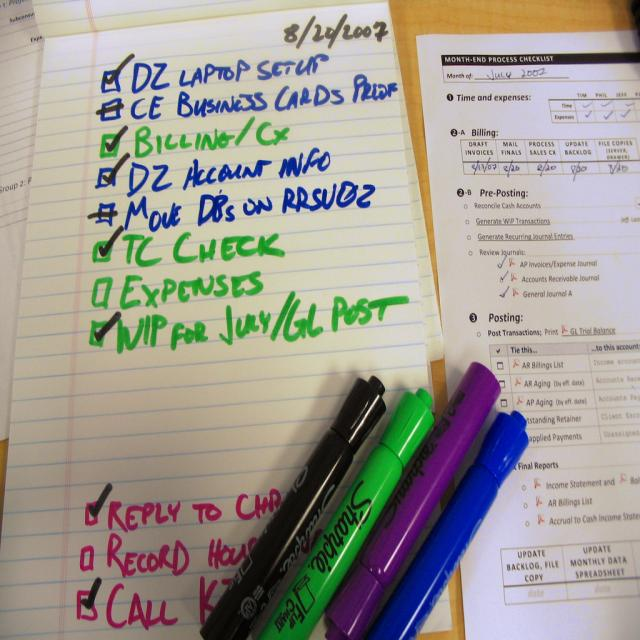pen: (194, 375, 386, 639), (322, 360, 502, 638), (258, 388, 436, 638), (372, 408, 529, 639)
